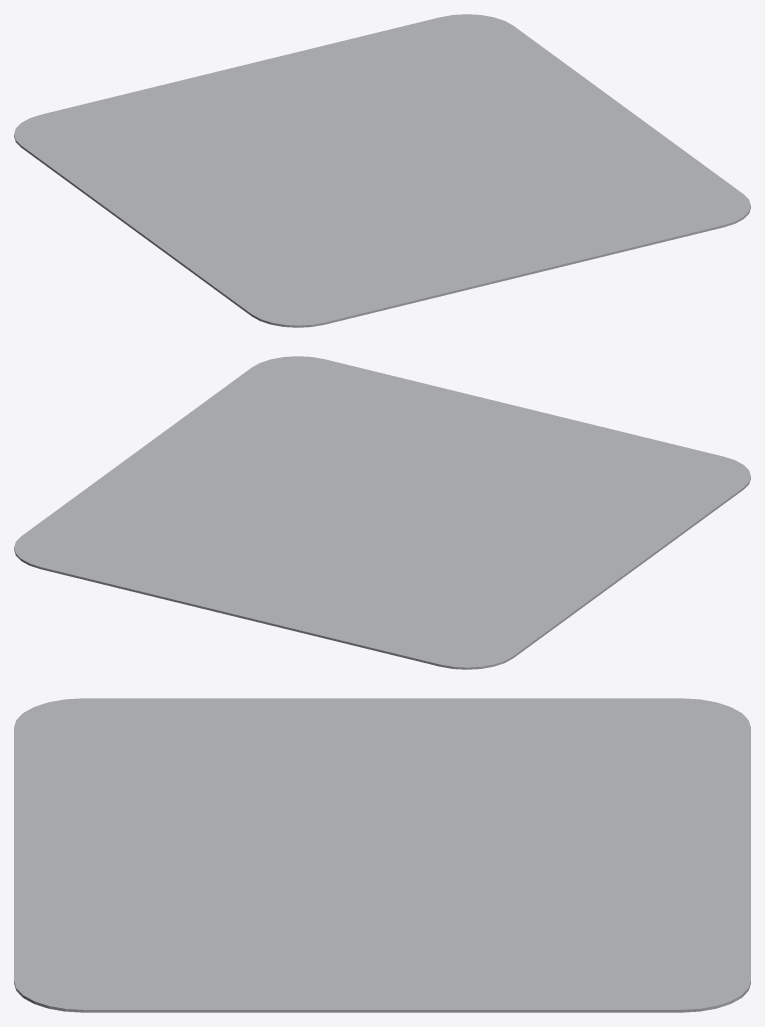
The picture shows the model from 3 angles, top to bottom: view 1: azimuth 30°, elevation 25°; view 2: azimuth 150°, elevation 25°; view 3: azimuth 270°, elevation 25°; orthographic projection. The views are drawn at different scales.
Visible parts, largest first — view 1: COM-02 Floor Surface; view 2: COM-02 Floor Surface; view 3: COM-02 Floor Surface.
Boxes of the visible parts, left/top/right/bottom form: COM-02 Floor Surface: left=14, top=14, right=750, bottom=327; COM-02 Floor Surface: left=14, top=356, right=750, bottom=669; COM-02 Floor Surface: left=14, top=698, right=750, bottom=1012.
Size of the model in its own units: 192 by 0.8 by 192.
